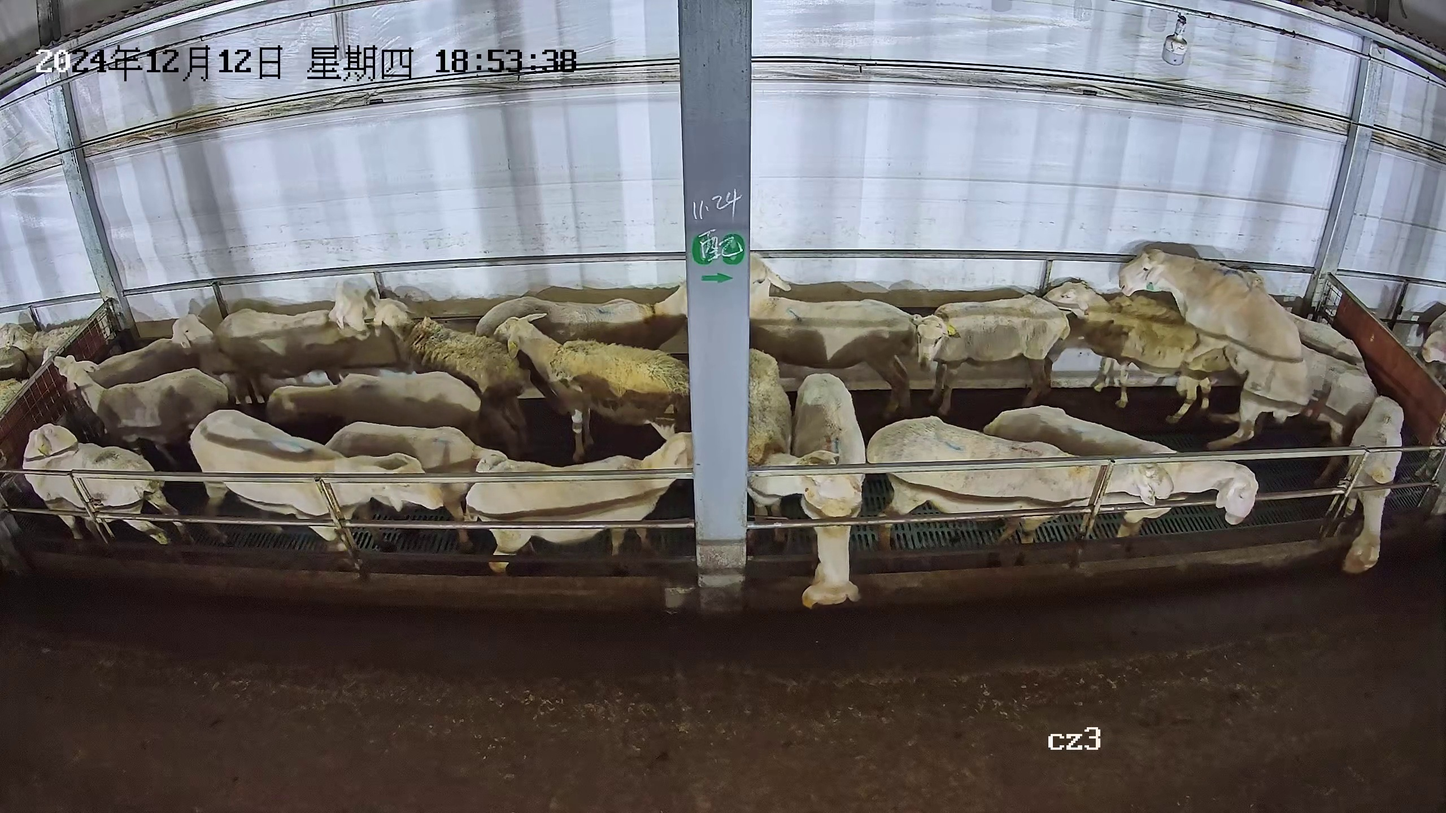Smounting: (1041, 246, 1314, 447)
mounted: (1045, 276, 1231, 425)
